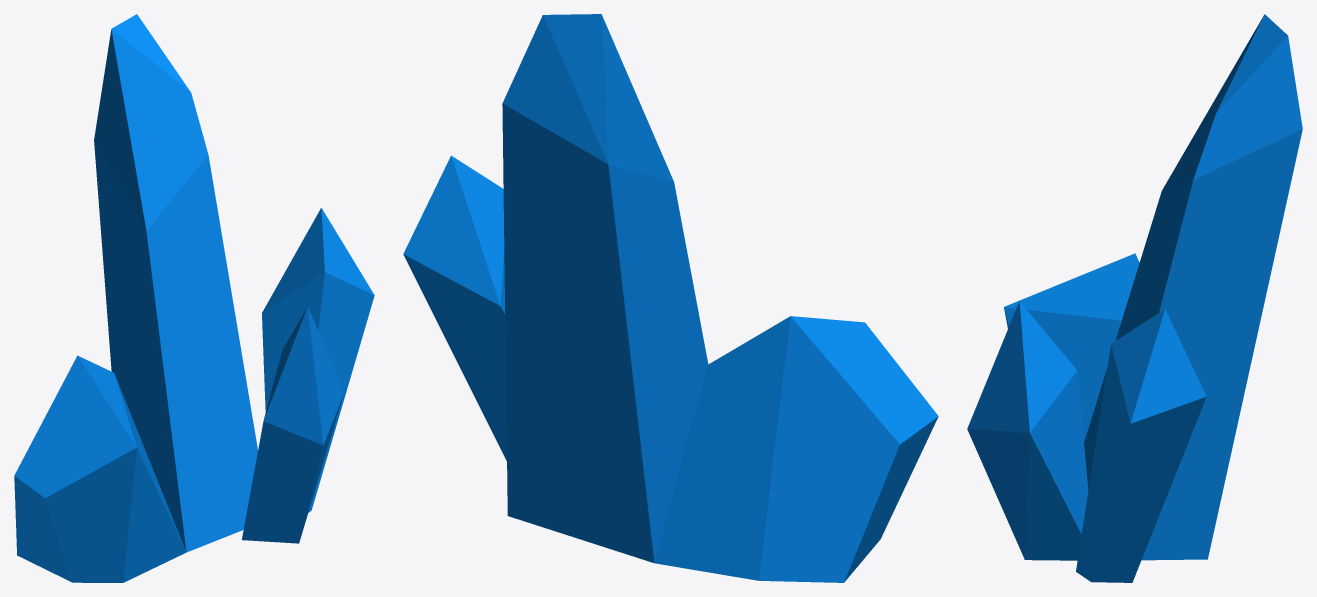
File: Crystal-D06.fbx
3 renders of one model, left to right at view 1: azimuth 30°, elevation 25°; view 2: azimuth 150°, elevation 25°; view 3: azimuth 270°, elevation 25°, orthographic. The views are drawn at different scales.
Visible parts, largest first — view 1: Crystal-D06; view 2: Crystal-D06; view 3: Crystal-D06.
Part boxes in pixels (<box>): Crystal-D06: <box>14,14,374,582</box>; Crystal-D06: <box>403,14,938,582</box>; Crystal-D06: <box>967,14,1302,582</box>.
Size of the model in its own units: 169 by 199 by 120.
